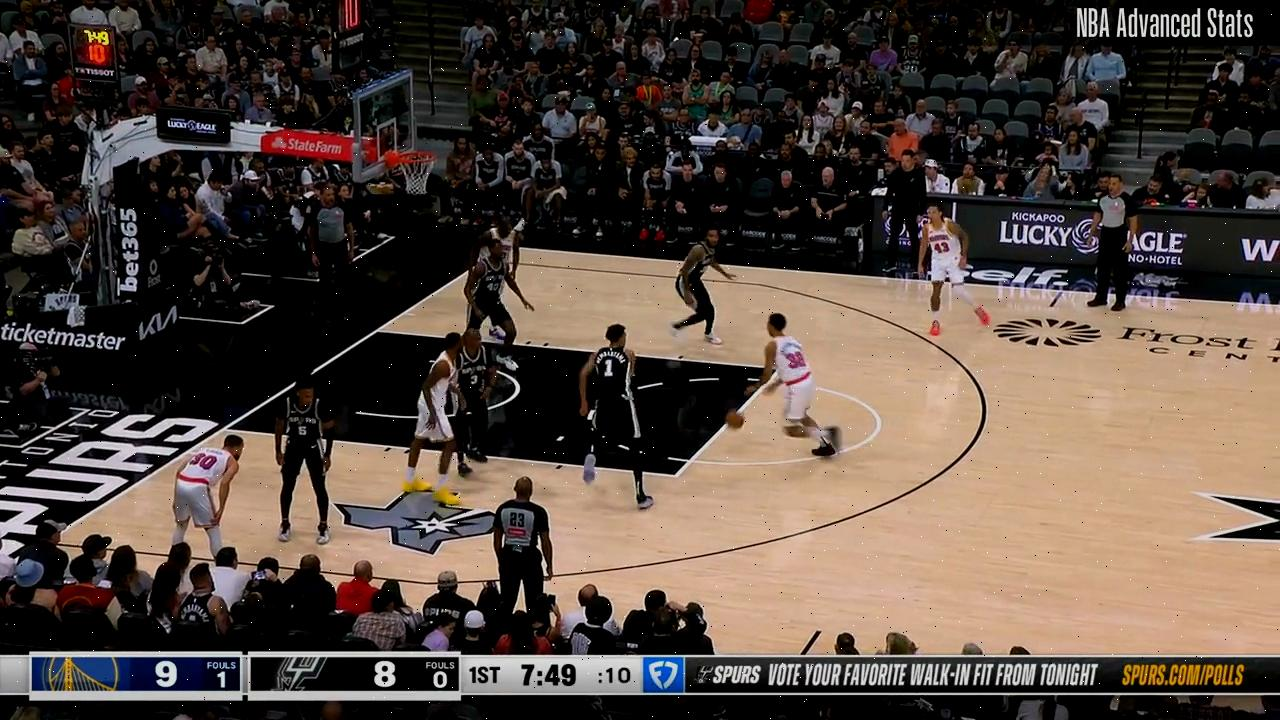basketball: (724, 407, 747, 431)
